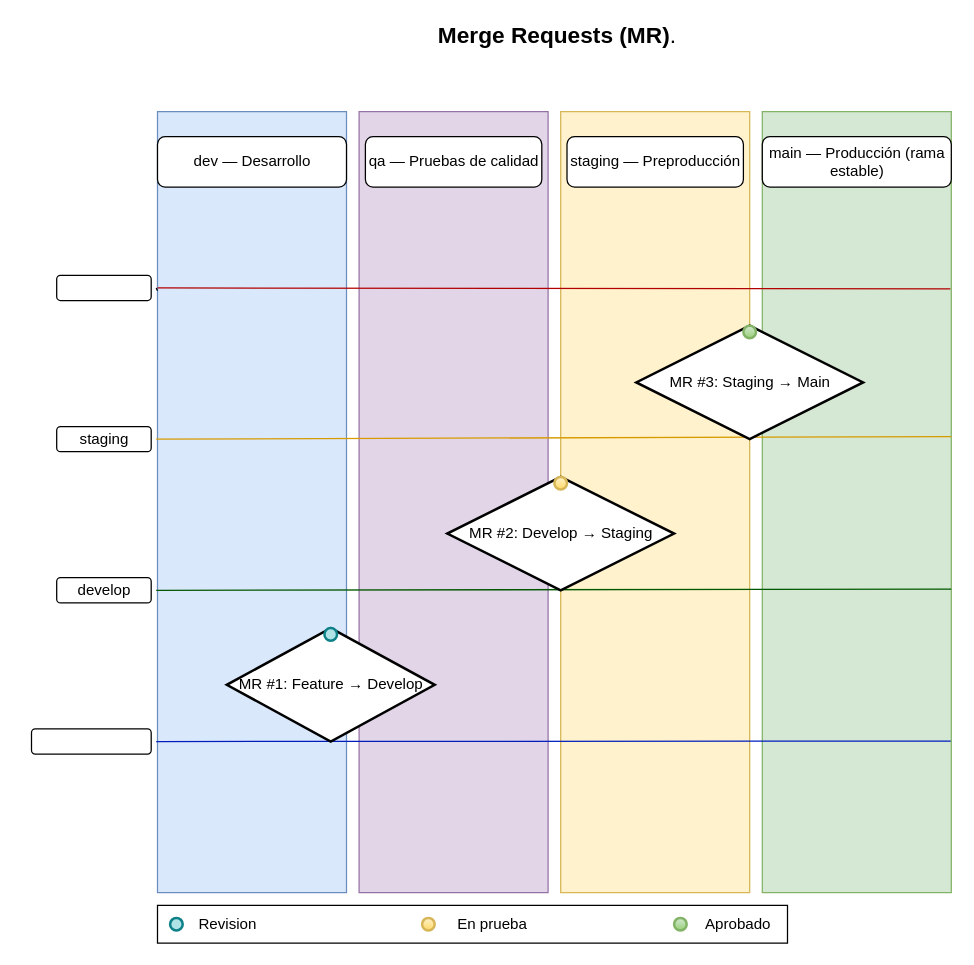
The diagram is 974 pixels wide and 965 high, and some of its shapes have lost their labels. The centre of each missing label's shape, as x and y in pixels:
feature branches: the point at 90,741
main/master: the point at 103,287
